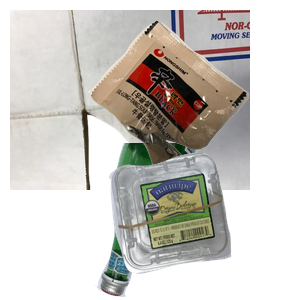cardboard: (10, 10, 250, 190)
glass: (93, 143, 284, 300)
plastic: (106, 151, 300, 300)
trash: (86, 18, 300, 194)
